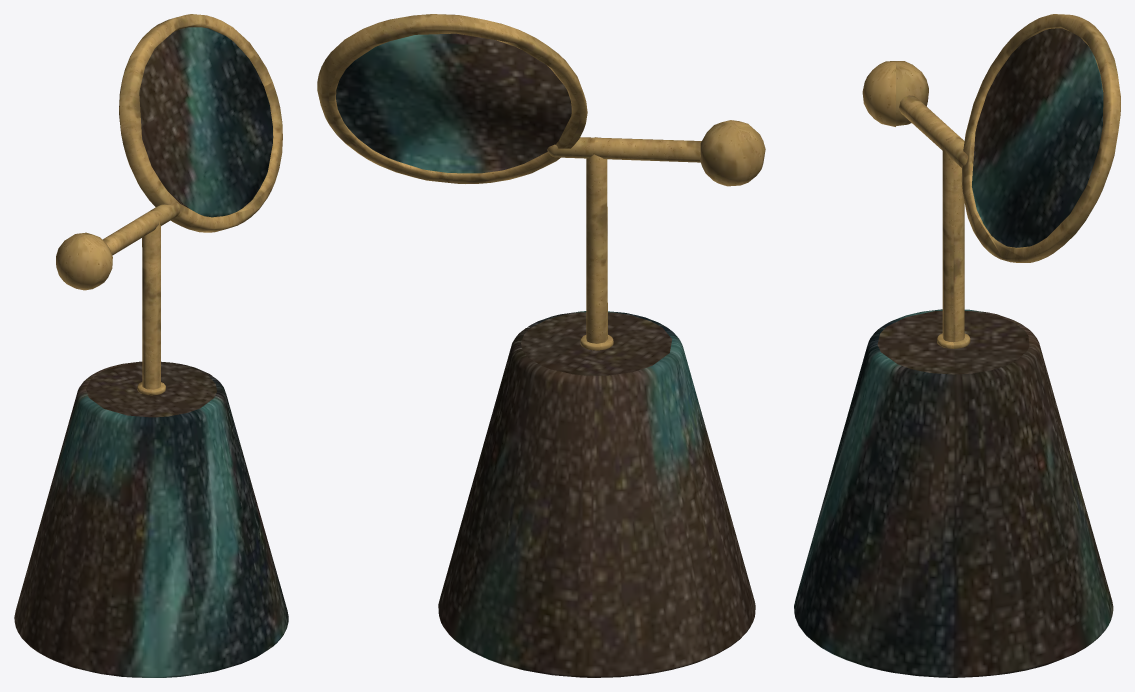
The model's file is Medenka_03_Lupa_cerna.glb.
The picture shows the model from 3 angles, left to right: view 1: azimuth 30°, elevation 25°; view 2: azimuth 150°, elevation 25°; view 3: azimuth 270°, elevation 25°; orthographic projection. The views are drawn at different scales.
Parts seen in each view (by area): view 1: Telo, Vlozka_cocky, Ram_cocky, Sloupek, Kulicka, Rameno; view 2: Telo, Vlozka_cocky, Ram_cocky, Sloupek, Kulicka, Rameno; view 3: Telo, Vlozka_cocky, Ram_cocky, Sloupek, Kulicka, Rameno.
Part boxes in pixels (x1,y1,x2,y2): Telo: [14, 361, 288, 677]; Vlozka_cocky: [139, 27, 273, 217]; Ram_cocky: [119, 14, 282, 232]; Sloupek: [142, 212, 160, 389]; Kulicka: [56, 232, 112, 290]; Rameno: [102, 202, 180, 255]; Telo: [438, 311, 755, 677]; Vlozka_cocky: [336, 33, 571, 173]; Ram_cocky: [317, 14, 587, 183]; Sloupek: [586, 137, 607, 343]; Kulicka: [700, 120, 765, 186]; Rameno: [547, 137, 701, 162]; Telo: [794, 309, 1113, 677]; Vlozka_cocky: [972, 28, 1103, 247]; Ram_cocky: [961, 14, 1120, 262]; Sloupek: [942, 135, 964, 342]; Kulicka: [862, 61, 928, 126]; Rameno: [899, 95, 973, 167].
Size of the model in its own units: 0.0504 by 0.0863 by 0.0407.
Materials: 2 (2 with a texture image).
